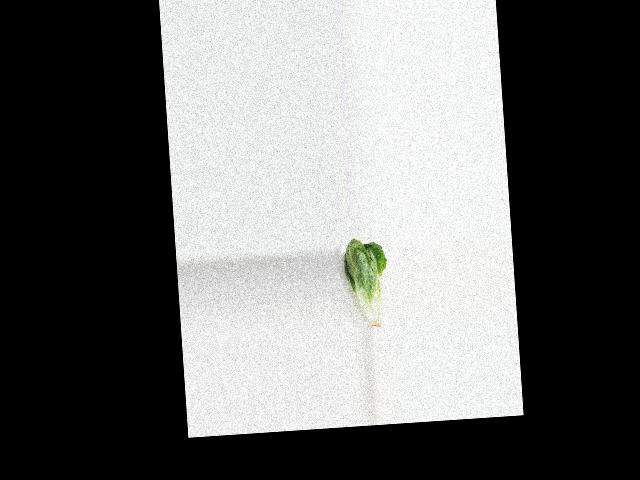lettuce: (340, 236, 392, 333)
